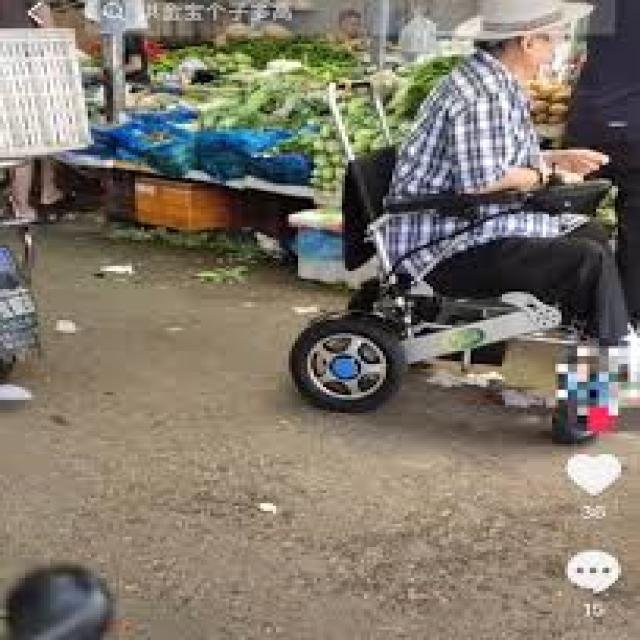wheelchairs: (279, 119, 637, 446)
